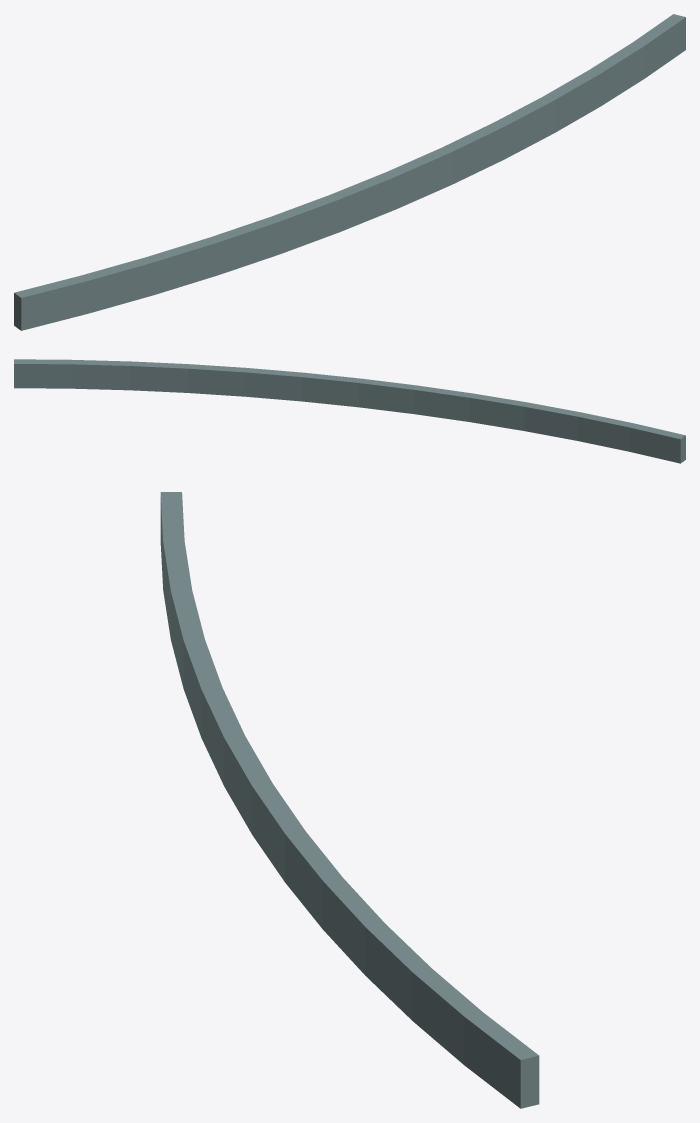
The model's file is RoadPlan_WalkCurve_2L_A30_R18_Curb_1.glb.
3 views of the same model, one above another, from view 1: azimuth 30°, elevation 25°; view 2: azimuth 150°, elevation 25°; view 3: azimuth 270°, elevation 25° (orthographic). The views are drawn at different scales.
Parts seen in each view (by area): view 1: RoadPlan_WalkCurve_2L_A30_R18_Curb_1; view 2: RoadPlan_WalkCurve_2L_A30_R18_Curb_1; view 3: RoadPlan_WalkCurve_2L_A30_R18_Curb_1.
Boxes of the visible parts, x1,y1,x2,y2 form: RoadPlan_WalkCurve_2L_A30_R18_Curb_1: (14,14,685,330); RoadPlan_WalkCurve_2L_A30_R18_Curb_1: (14,359,685,463); RoadPlan_WalkCurve_2L_A30_R18_Curb_1: (160,492,539,1108).
Size of the model in its own units: 7.5 by 0.3 by 2.11.
